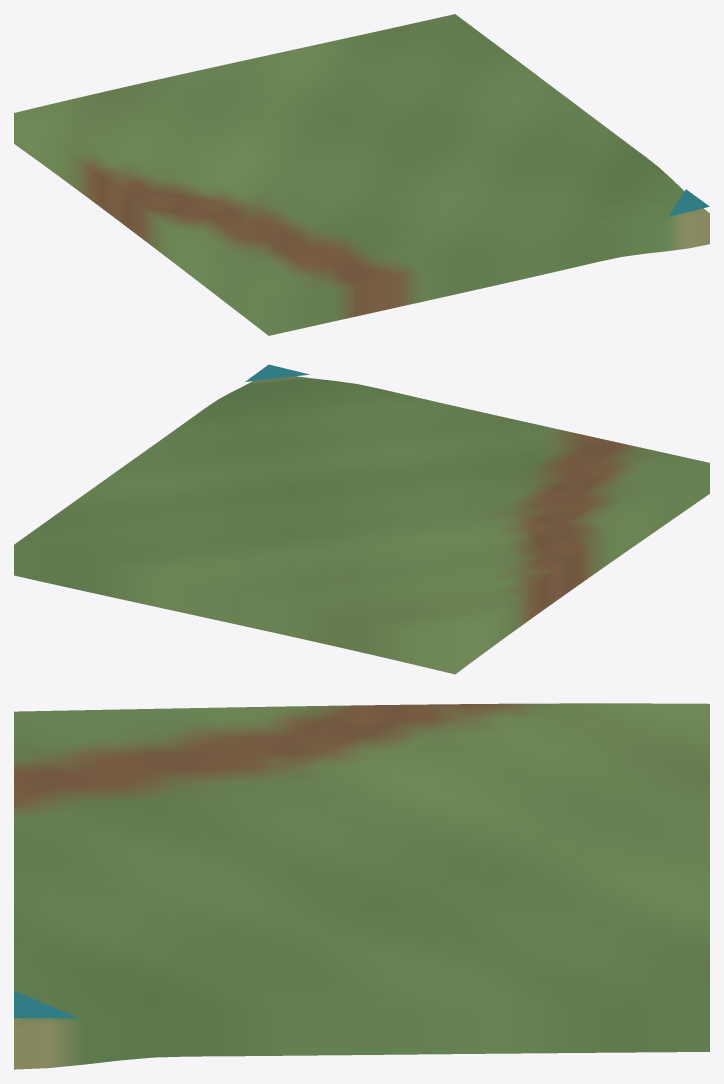
3 renders of one model, top to bottom at view 1: azimuth 30°, elevation 25°; view 2: azimuth 150°, elevation 25°; view 3: azimuth 270°, elevation 25°, orthographic. The views are drawn at different scales.
Visible parts, largest first — view 1: terrain, scenery; view 2: terrain, scenery; view 3: terrain, scenery.
Boxes of the visible parts, x1,y1,x2,y2 form: terrain: [14, 14, 709, 335]; scenery: [668, 189, 709, 216]; terrain: [14, 376, 709, 674]; scenery: [245, 364, 309, 381]; terrain: [14, 703, 709, 1069]; scenery: [14, 990, 78, 1018].
Bounding box in the file's own units: 30 × 3.43 × 30.
